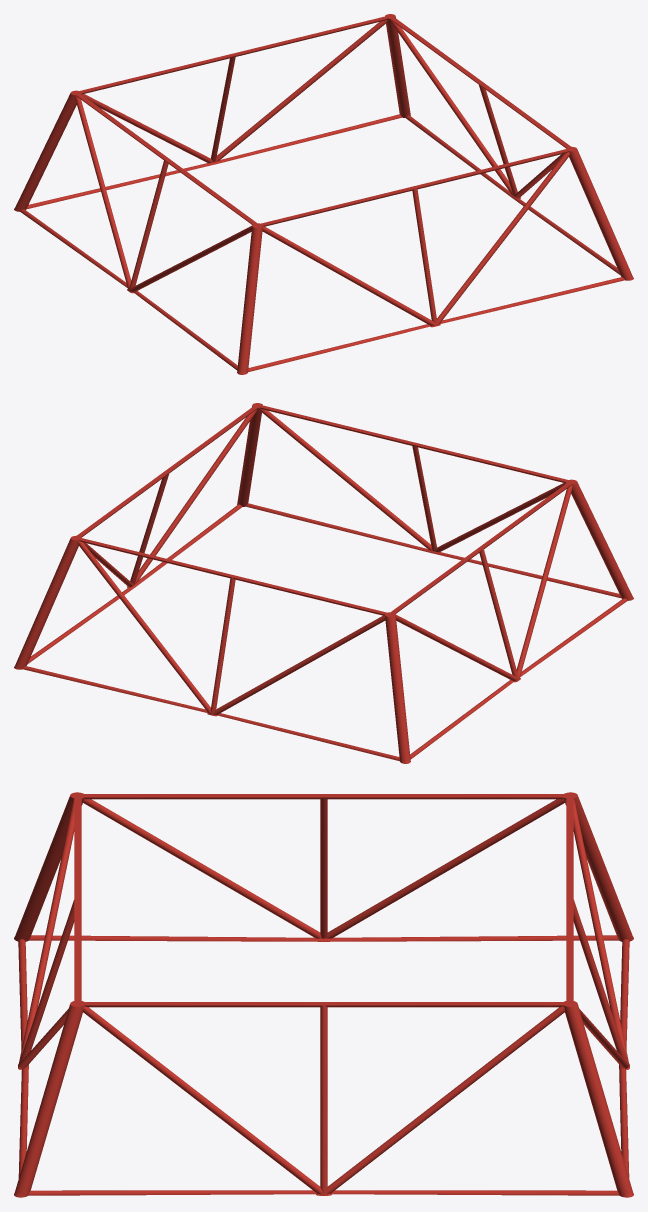
3 renders of one model, top to bottom at view 1: azimuth 30°, elevation 25°; view 2: azimuth 150°, elevation 25°; view 3: azimuth 270°, elevation 25°, orthographic. The views are drawn at different scales.
Parts seen in each view (by area): view 1: H4-H5; view 2: H4-H5; view 3: H4-H5.
Part boxes in pixels (x1,y1,x2,y2): H4-H5: (14,14,633,374); H4-H5: (14,403,633,763); H4-H5: (14,792,633,1197).
Bounding box in the file's own units: 42.08 × 12.5 × 42.08.
